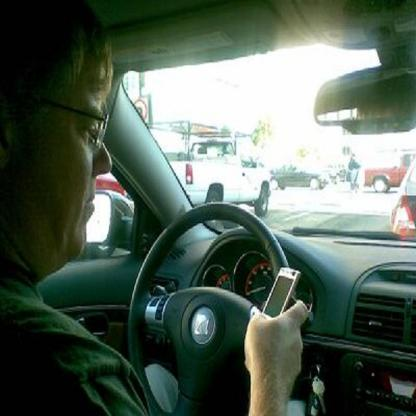Car: (36, 1, 416, 416), (393, 162, 416, 237), (270, 162, 328, 189)
